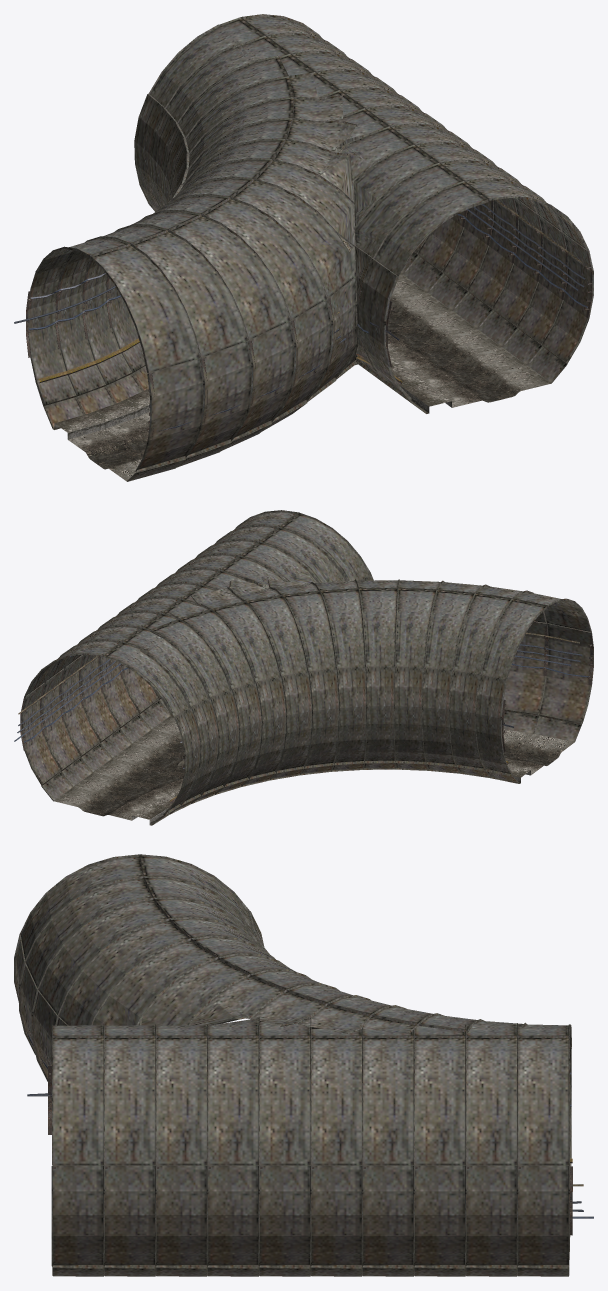
File: tunnel_beton_double.obj
3 views of the same model, one above another, from view 1: azimuth 30°, elevation 25°; view 2: azimuth 150°, elevation 25°; view 3: azimuth 270°, elevation 25° (orthographic). The views are drawn at different scales.
Visible parts, largest first — view 1: concrete_tile_019, floor_tunnel_pod029, metal_trub_tonnel, metal_corr_dsc023, concrete_8; view 2: concrete_tile_019, floor_tunnel_pod029, metal_trub_tonnel, metal_corr_dsc023; view 3: concrete_tile_019, metal_corr_dsc023.
Boxes of the visible parts, x1,y1,x2,y2 form: concrete_tile_019: (28, 14, 593, 481); floor_tunnel_pod029: (53, 245, 550, 480); metal_trub_tonnel: (14, 199, 588, 430); metal_corr_dsc023: (26, 198, 592, 436); concrete_8: (67, 401, 451, 439); concrete_tile_019: (22, 510, 593, 825); floor_tunnel_pod029: (54, 716, 574, 825); metal_trub_tonnel: (14, 600, 590, 803); metal_corr_dsc023: (20, 623, 593, 776); concrete_tile_019: (14, 854, 571, 1276); metal_corr_dsc023: (15, 940, 572, 1235).
Size of the model in its own units: 20.26 by 8.32 by 20.43.
